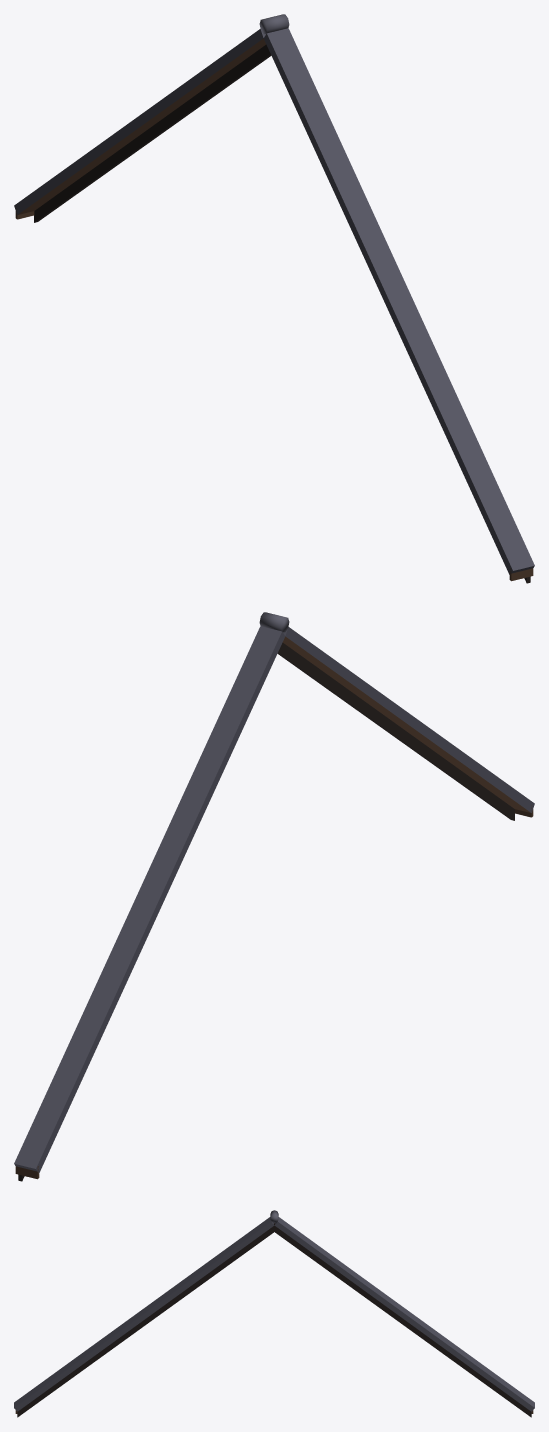
Rendered from kit_church_slate_w8_end.glb.
3 views of the same model, one above another, from view 1: azimuth 30°, elevation 25°; view 2: azimuth 150°, elevation 25°; view 3: azimuth 270°, elevation 25° (orthographic). The views are drawn at different scales.
Visible parts, largest first — view 1: kit_church_slate_w8_end; view 2: kit_church_slate_w8_end; view 3: kit_church_slate_w8_end.
Part boxes in pixels (x1,y1,x2,y2): kit_church_slate_w8_end: (14,14,534,583); kit_church_slate_w8_end: (14,612,534,1181); kit_church_slate_w8_end: (14,1210,534,1417).
Size of the model in its own units: 0.22 by 3.73 by 8.71.
